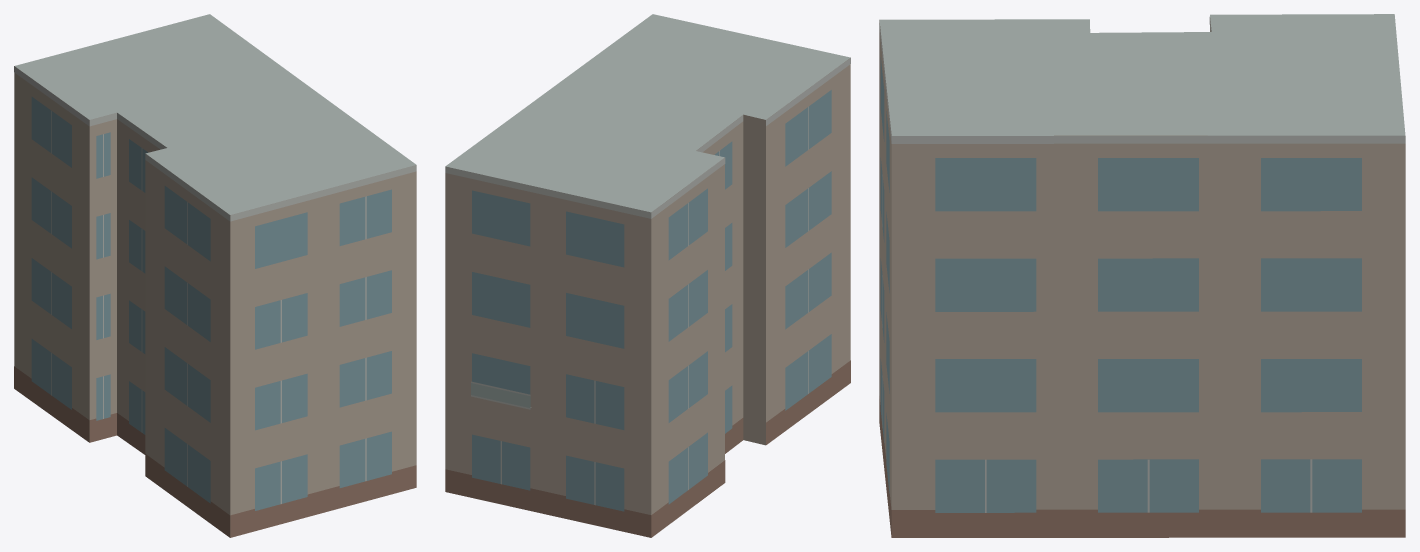
File: survey-upis-32690374.glb
3 renders of one model, left to right at view 1: azimuth 30°, elevation 25°; view 2: azimuth 150°, elevation 25°; view 3: azimuth 270°, elevation 25°, orthographic. The views are drawn at different scales.
Parts seen in each view (by area): view 1: survey-upis-32690374.tmp; view 2: survey-upis-32690374.tmp; view 3: survey-upis-32690374.tmp.
Part boxes in pixels (x1=…): survey-upis-32690374.tmp: x1=14, y1=14, x2=416, y2=537; survey-upis-32690374.tmp: x1=445, y1=14, x2=850, y2=537; survey-upis-32690374.tmp: x1=879, y1=14, x2=1405, y2=537.
Size of the model in its own units: 7.94 by 12.2 by 14.48.
